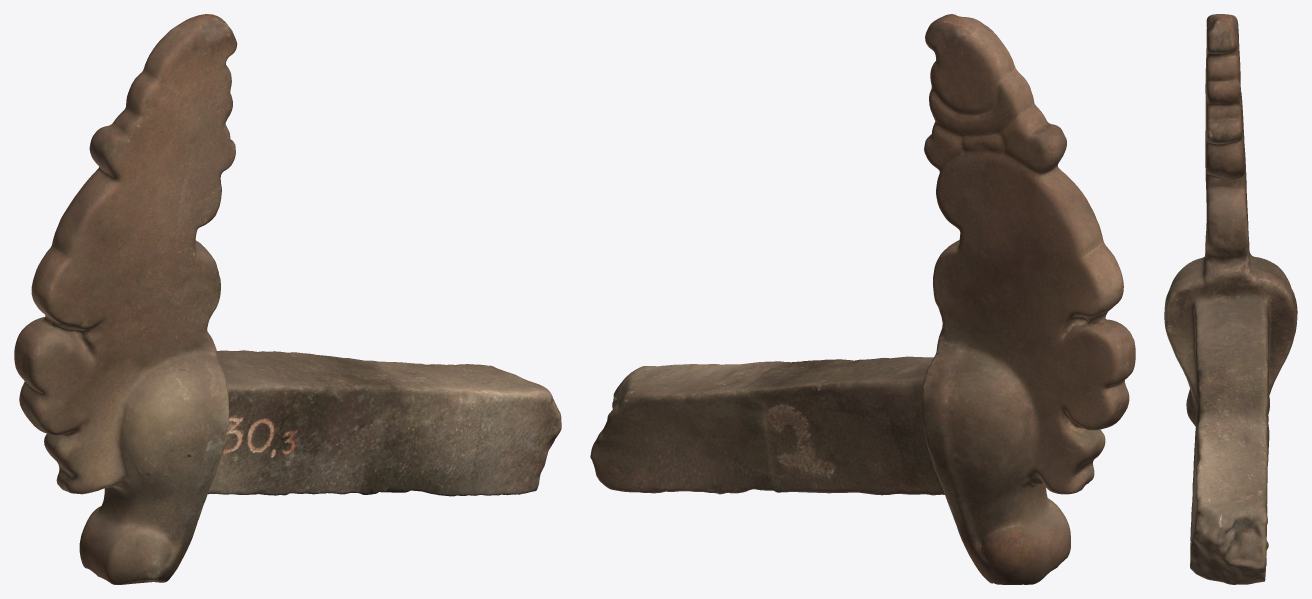
Rendered from 24_vattrangtri_final.glb.
The picture shows the model from 3 angles, left to right: view 1: azimuth 30°, elevation 25°; view 2: azimuth 150°, elevation 25°; view 3: azimuth 270°, elevation 25°; orthographic projection. The views are drawn at different scales.
Bounding box in the file's own units: 0.7598 × 0.7508 × 0.205.
Materials: 1 (1 with a texture image).
